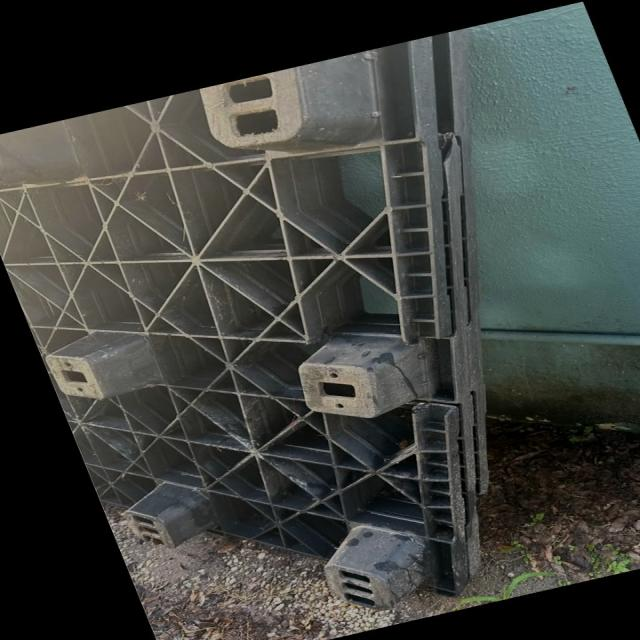non-igps: (0, 26, 501, 612)
